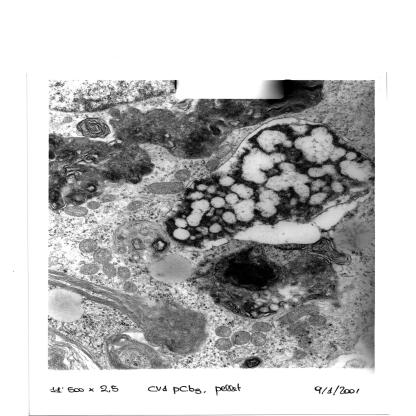mitochondria: (276, 304, 326, 326), (146, 181, 184, 196), (91, 247, 116, 264), (62, 204, 90, 219), (76, 263, 102, 277), (116, 264, 135, 283), (79, 237, 98, 256), (230, 330, 252, 346), (286, 322, 312, 335), (100, 262, 117, 280), (171, 169, 193, 182), (214, 144, 234, 158), (250, 332, 268, 347), (249, 321, 273, 332), (308, 314, 328, 327), (203, 158, 221, 172), (297, 336, 314, 350), (214, 338, 232, 351), (97, 194, 119, 204), (121, 282, 139, 294), (214, 325, 232, 337), (86, 200, 102, 210)
